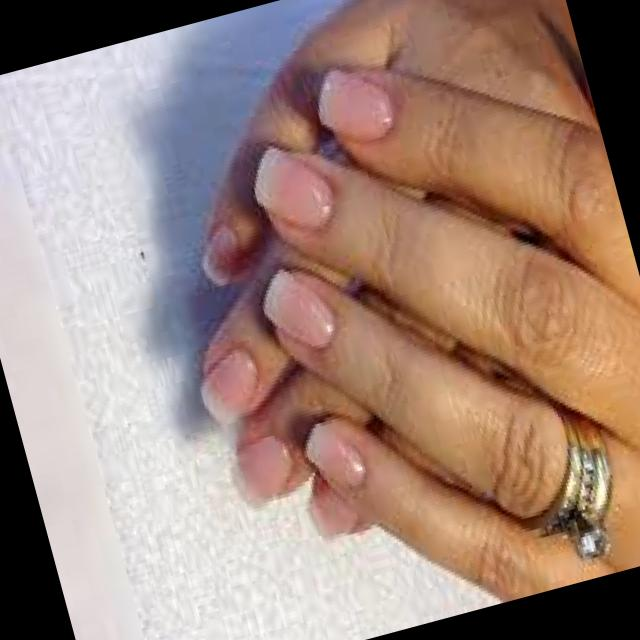Nail: (252, 143, 332, 228), (317, 70, 394, 138), (264, 272, 333, 346), (230, 436, 288, 509), (201, 349, 256, 425), (304, 426, 363, 488), (309, 487, 357, 539), (201, 227, 238, 284)
